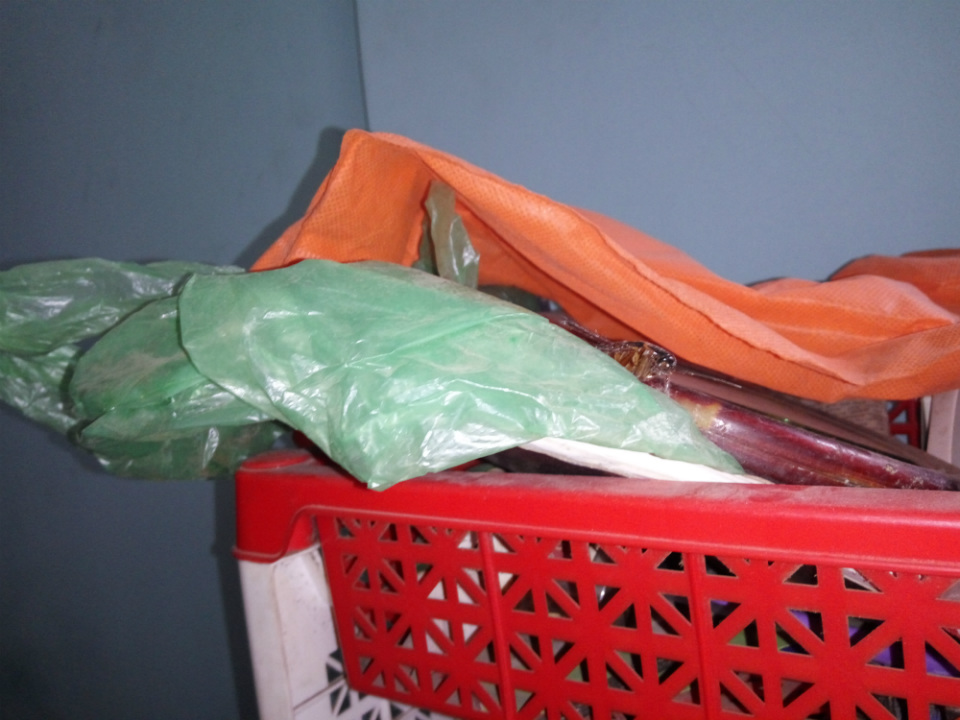cockroach: (567, 309, 695, 397)
